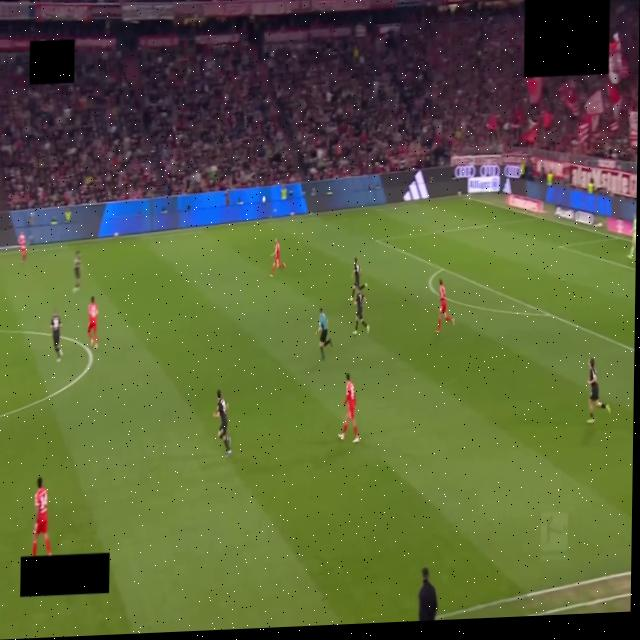player: (587, 358, 610, 423), (338, 373, 359, 443), (33, 478, 51, 556), (214, 390, 231, 457), (436, 280, 454, 333), (349, 257, 367, 302), (353, 291, 369, 335), (50, 310, 62, 361), (87, 297, 98, 349), (271, 239, 285, 277), (628, 214, 635, 259), (74, 251, 81, 292), (17, 232, 26, 262)
referee: (317, 308, 332, 360)
